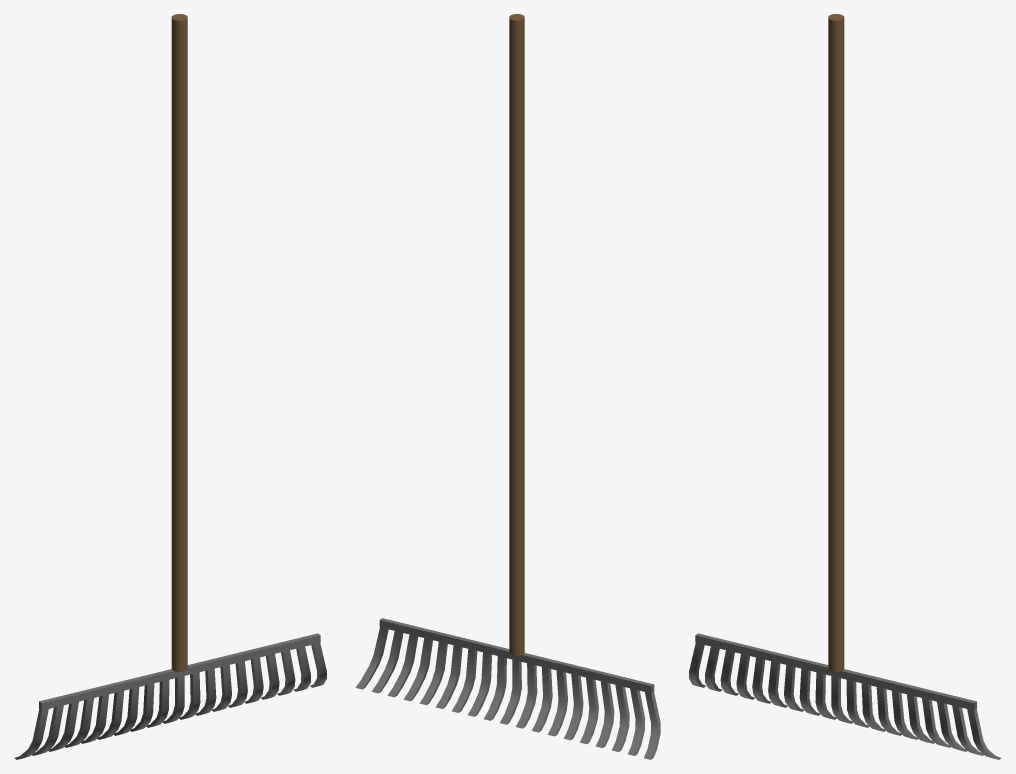
File: rateau.fbx
3 views of the same model, side by side, from view 1: azimuth 30°, elevation 25°; view 2: azimuth 150°, elevation 25°; view 3: azimuth 330°, elevation 25° (orthographic). The views are drawn at different scales.
Parts seen in each view (by area): view 1: rateau; view 2: rateau; view 3: rateau.
Boxes of the visible parts, x1,y1,x2,y2 form: rateau: (14, 14, 326, 759); rateau: (355, 14, 660, 759); rateau: (689, 14, 1001, 759).
Bounding box in the file's own units: 74.27 × 167 × 7.7.
